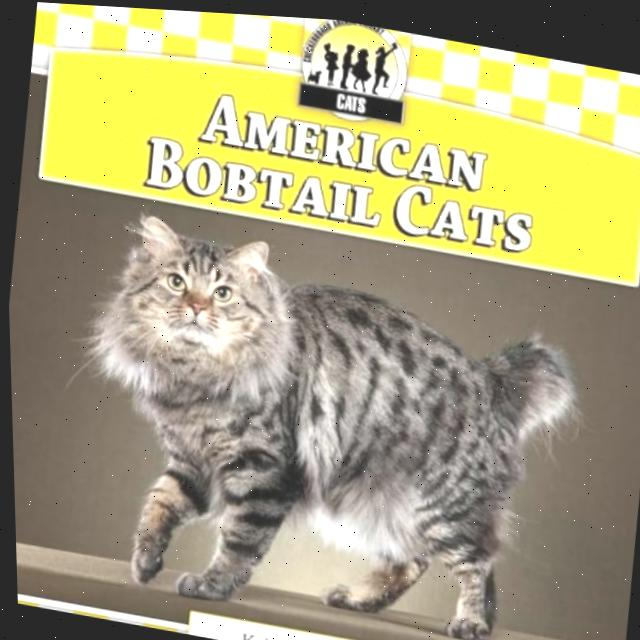American Bobtail: (57, 199, 597, 640)
